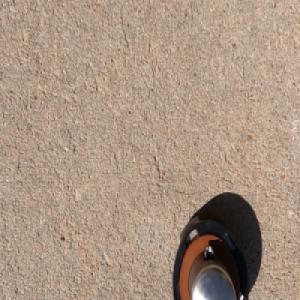FuelCap: (170, 214, 249, 300)
